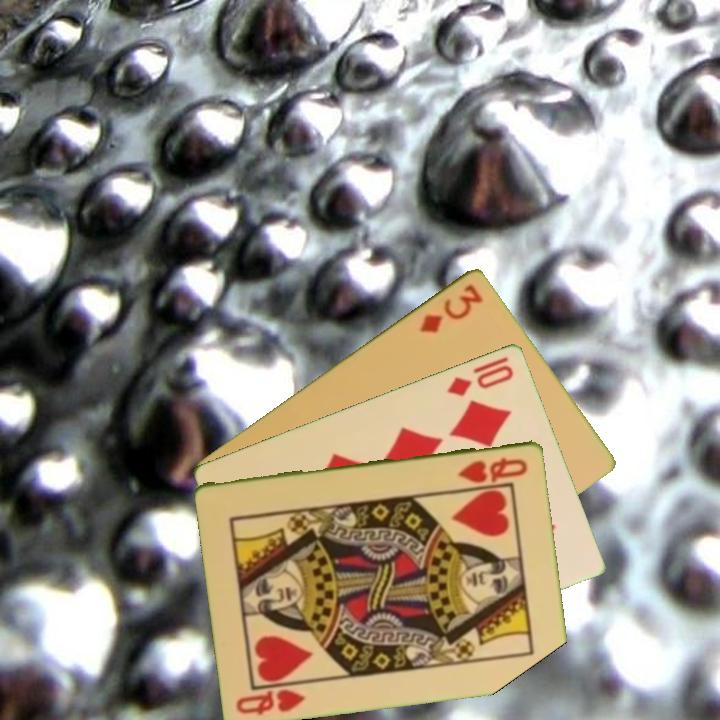10d: (443, 352, 517, 399)
3d: (416, 279, 486, 336)
Qh: (232, 684, 309, 717), (455, 453, 531, 485)
